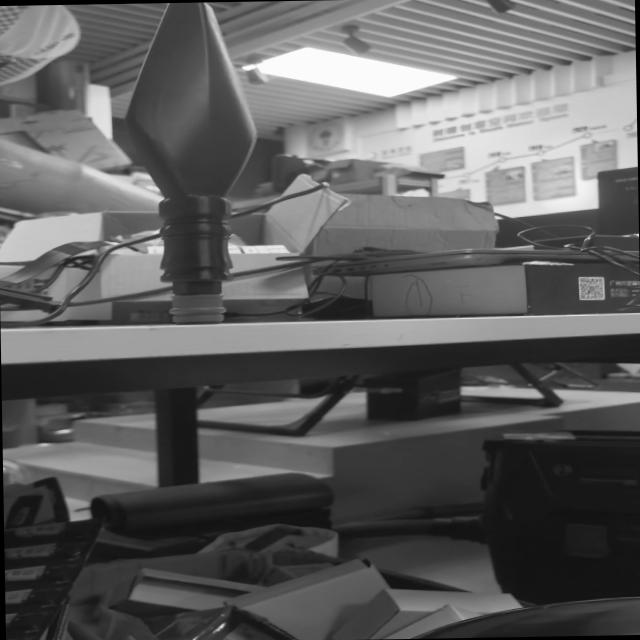base: (162, 288, 232, 328)
